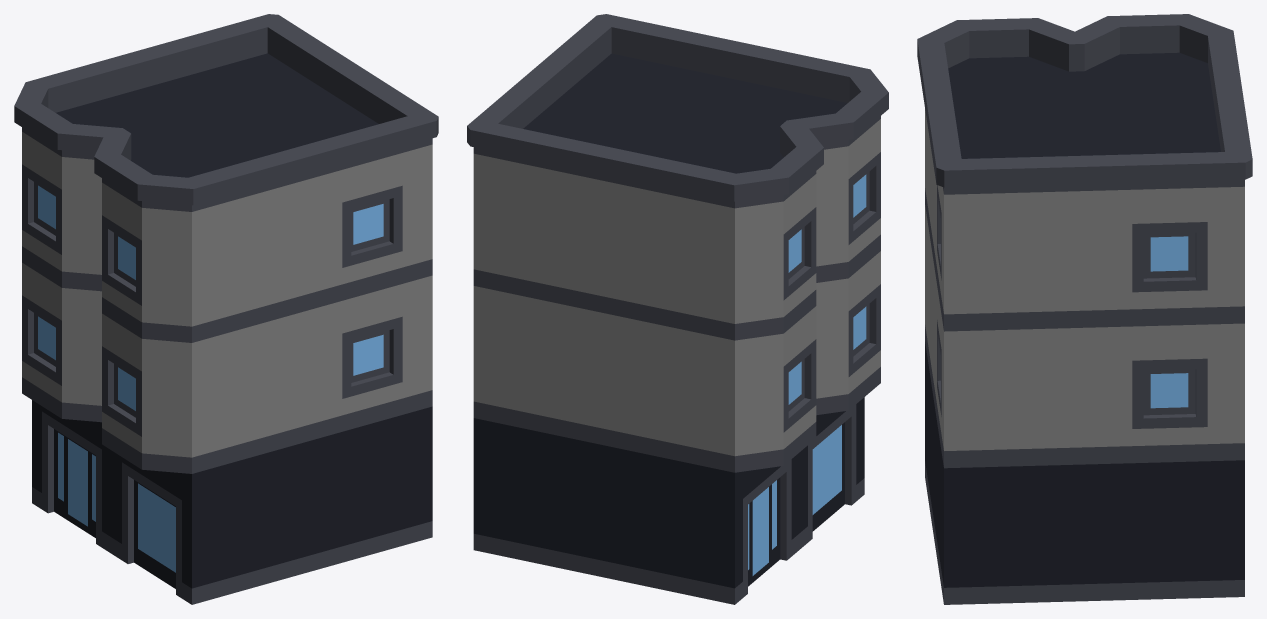
The model's file is variant_13.obj.
The picture shows the model from 3 angles, left to right: view 1: azimuth 30°, elevation 25°; view 2: azimuth 150°, elevation 25°; view 3: azimuth 270°, elevation 25°; orthographic projection. The views are drawn at different scales.
Visible parts, largest first — view 1: small_buildingA; view 2: small_buildingA; view 3: small_buildingA.
Boxes of the visible parts, bbox=[...] form: small_buildingA: bbox=[14, 14, 438, 604]; small_buildingA: bbox=[467, 14, 888, 604]; small_buildingA: bbox=[917, 14, 1252, 604].
Size of the model in its own units: 0.9826 by 1.28 by 0.8891.
